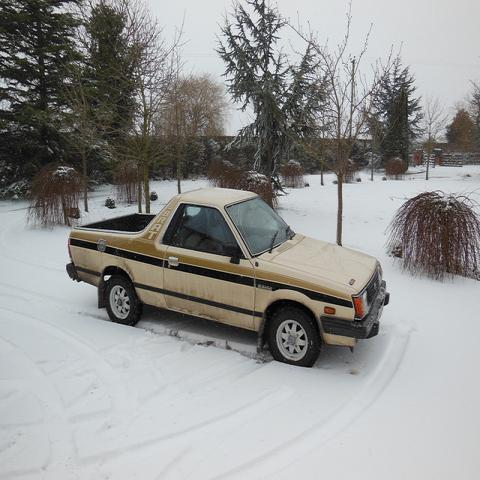car: (66, 185, 395, 370)
truck: (65, 187, 389, 367)
